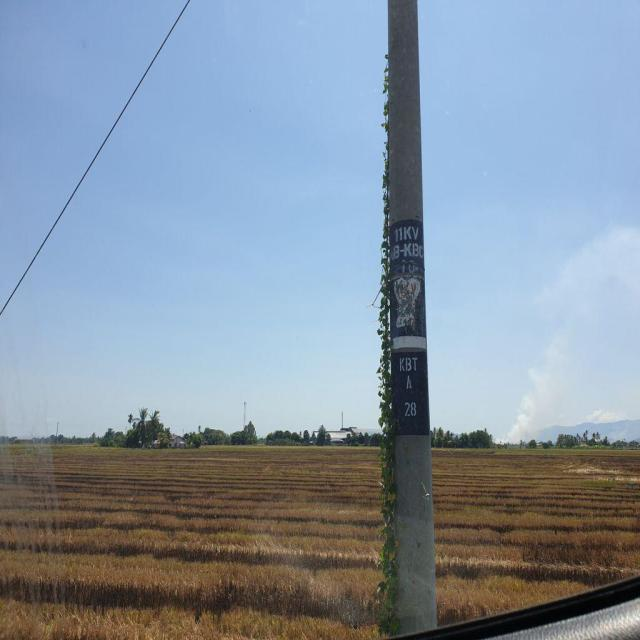critical vegetation: (375, 49, 439, 639)
